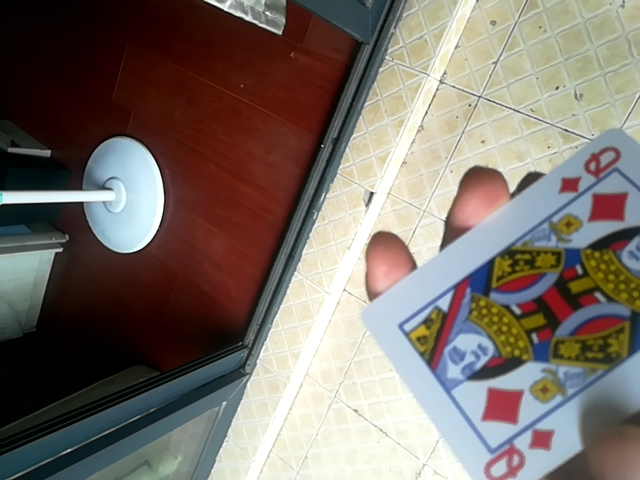fk q: (366, 130, 639, 478)
